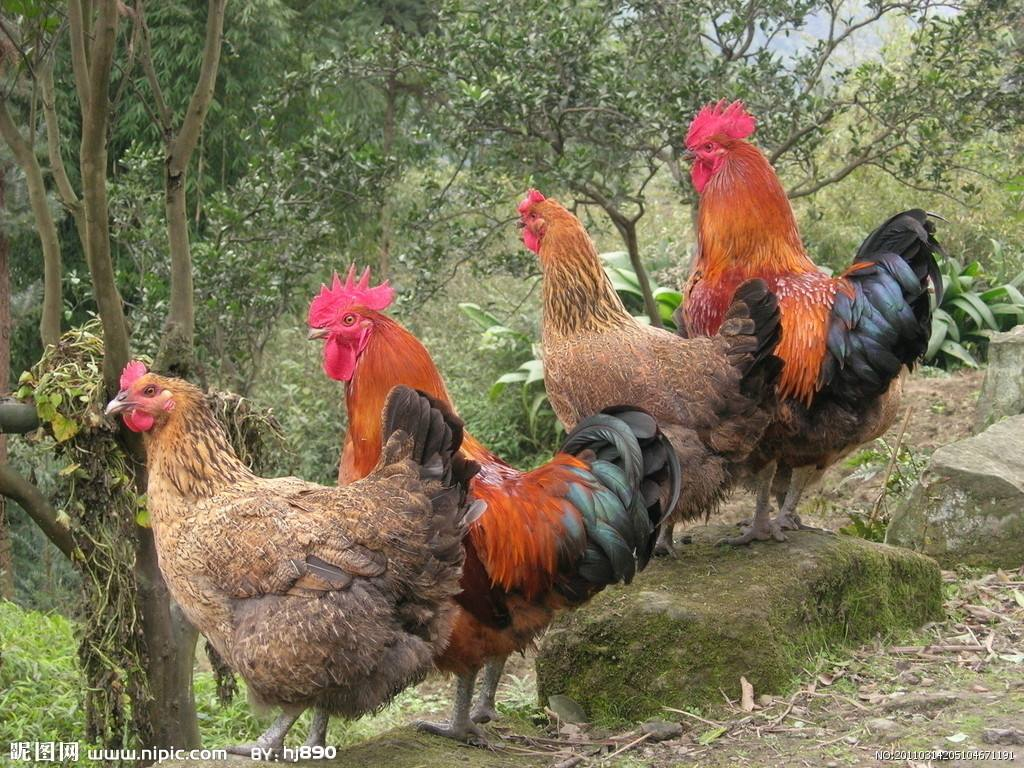chicken: (294, 259, 680, 749), (93, 353, 474, 767), (678, 98, 951, 547), (505, 180, 784, 561)
